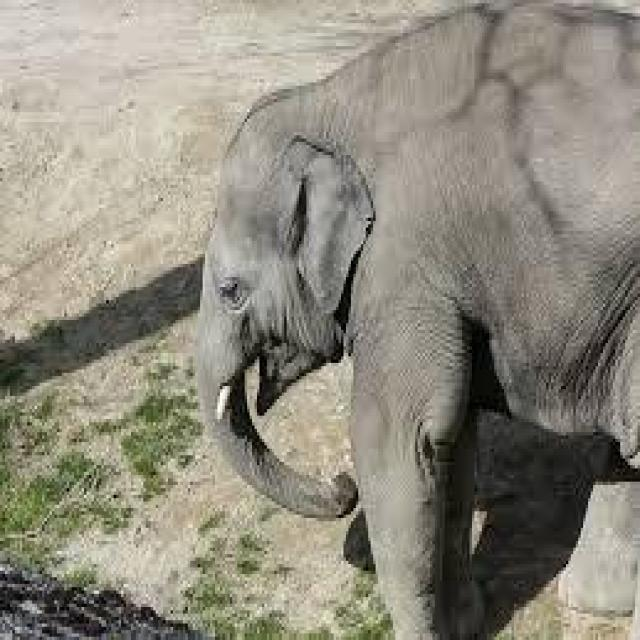Elephant: (200, 0, 638, 637)
